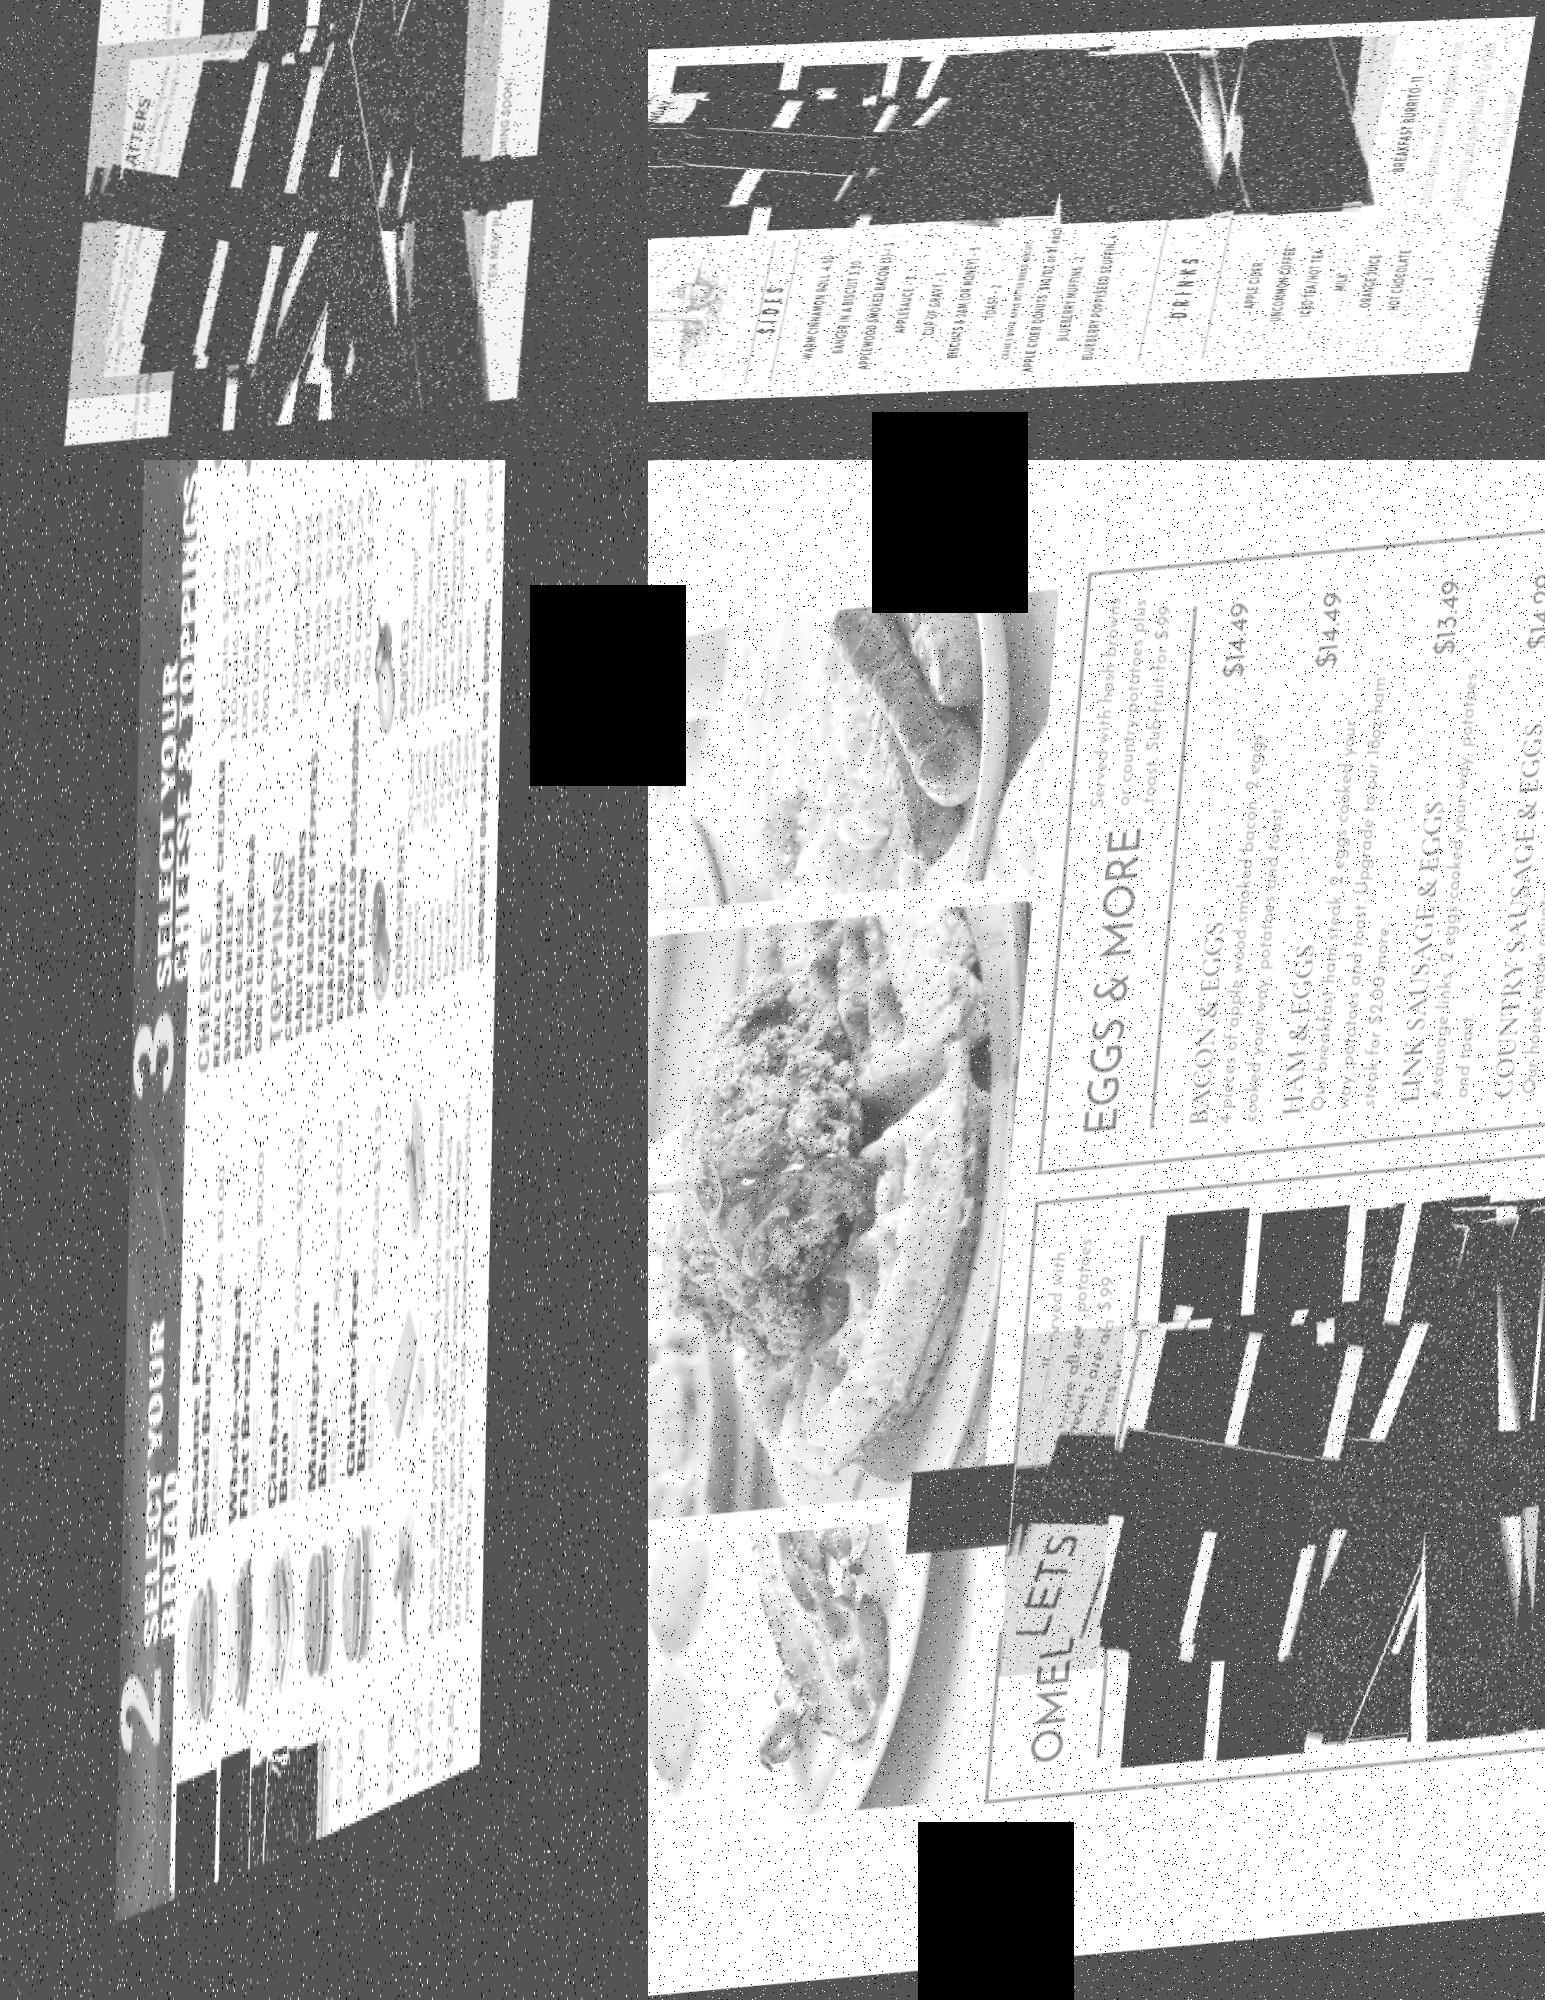Menu-Items: (1117, 1312, 1488, 1695), (1018, 1315, 1388, 1698), (73, 19, 404, 406), (109, 31, 445, 384), (1313, 1218, 1504, 1775), (370, 461, 498, 1087), (1287, 586, 1428, 1147), (1396, 590, 1527, 1140), (271, 479, 378, 1114), (1193, 590, 1310, 1157), (1428, 1213, 1545, 1770), (263, 0, 399, 435), (329, 0, 456, 428), (195, 506, 276, 1122), (850, 47, 1118, 234), (399, 0, 511, 422), (1063, 45, 1272, 229), (686, 88, 980, 208), (1225, 41, 1401, 224), (1370, 36, 1535, 219), (1493, 576, 1545, 1139), (648, 86, 878, 212), (188, 1139, 232, 1578), (308, 1114, 352, 1554), (268, 1122, 312, 1556), (230, 1137, 274, 1564), (347, 1106, 391, 1531), (1082, 235, 1147, 368), (1026, 229, 1081, 378), (1001, 240, 1053, 365), (865, 238, 910, 375), (949, 247, 1000, 362), (802, 251, 850, 365), (836, 258, 881, 363), (1063, 256, 1102, 349), (928, 271, 966, 341), (897, 274, 935, 339), (988, 282, 1019, 326)
